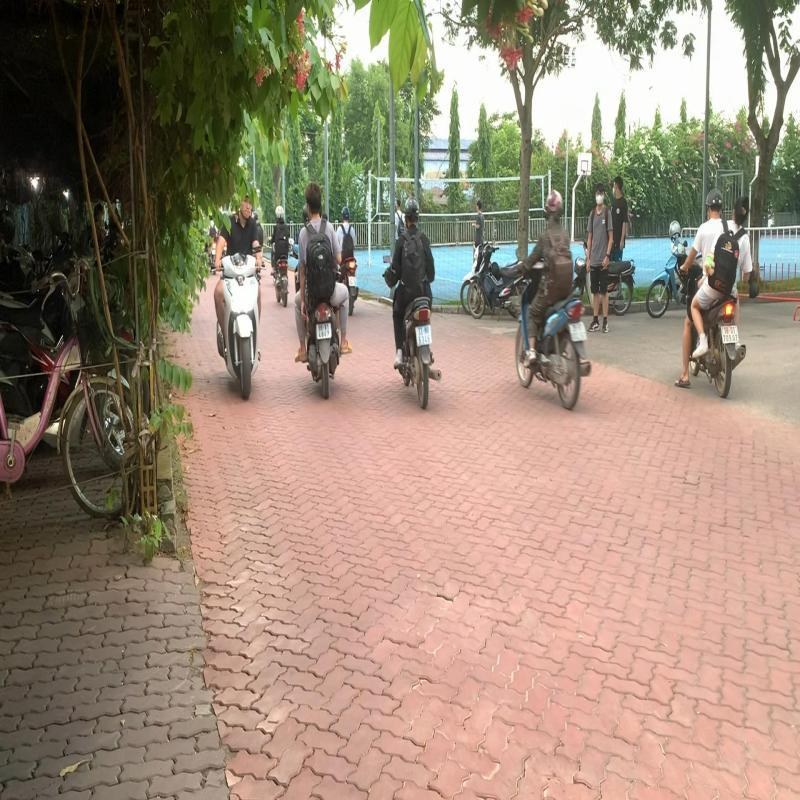nohelmet: (305, 178, 323, 218)
